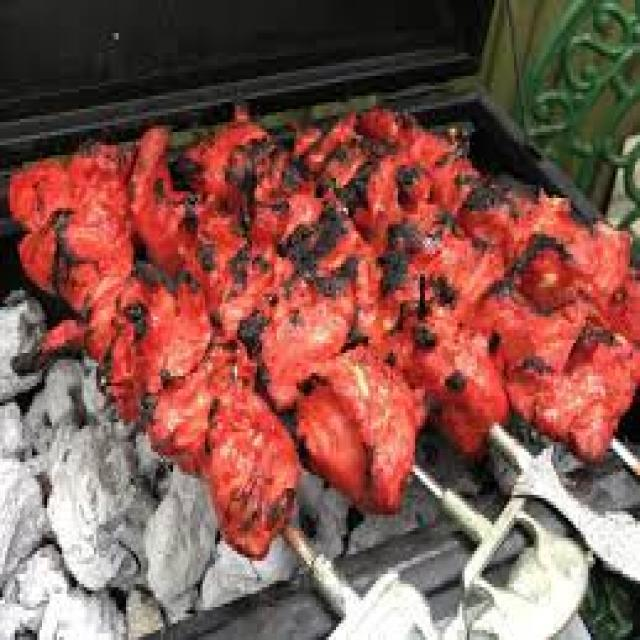Chicken Tikka: (3, 96, 640, 564)
